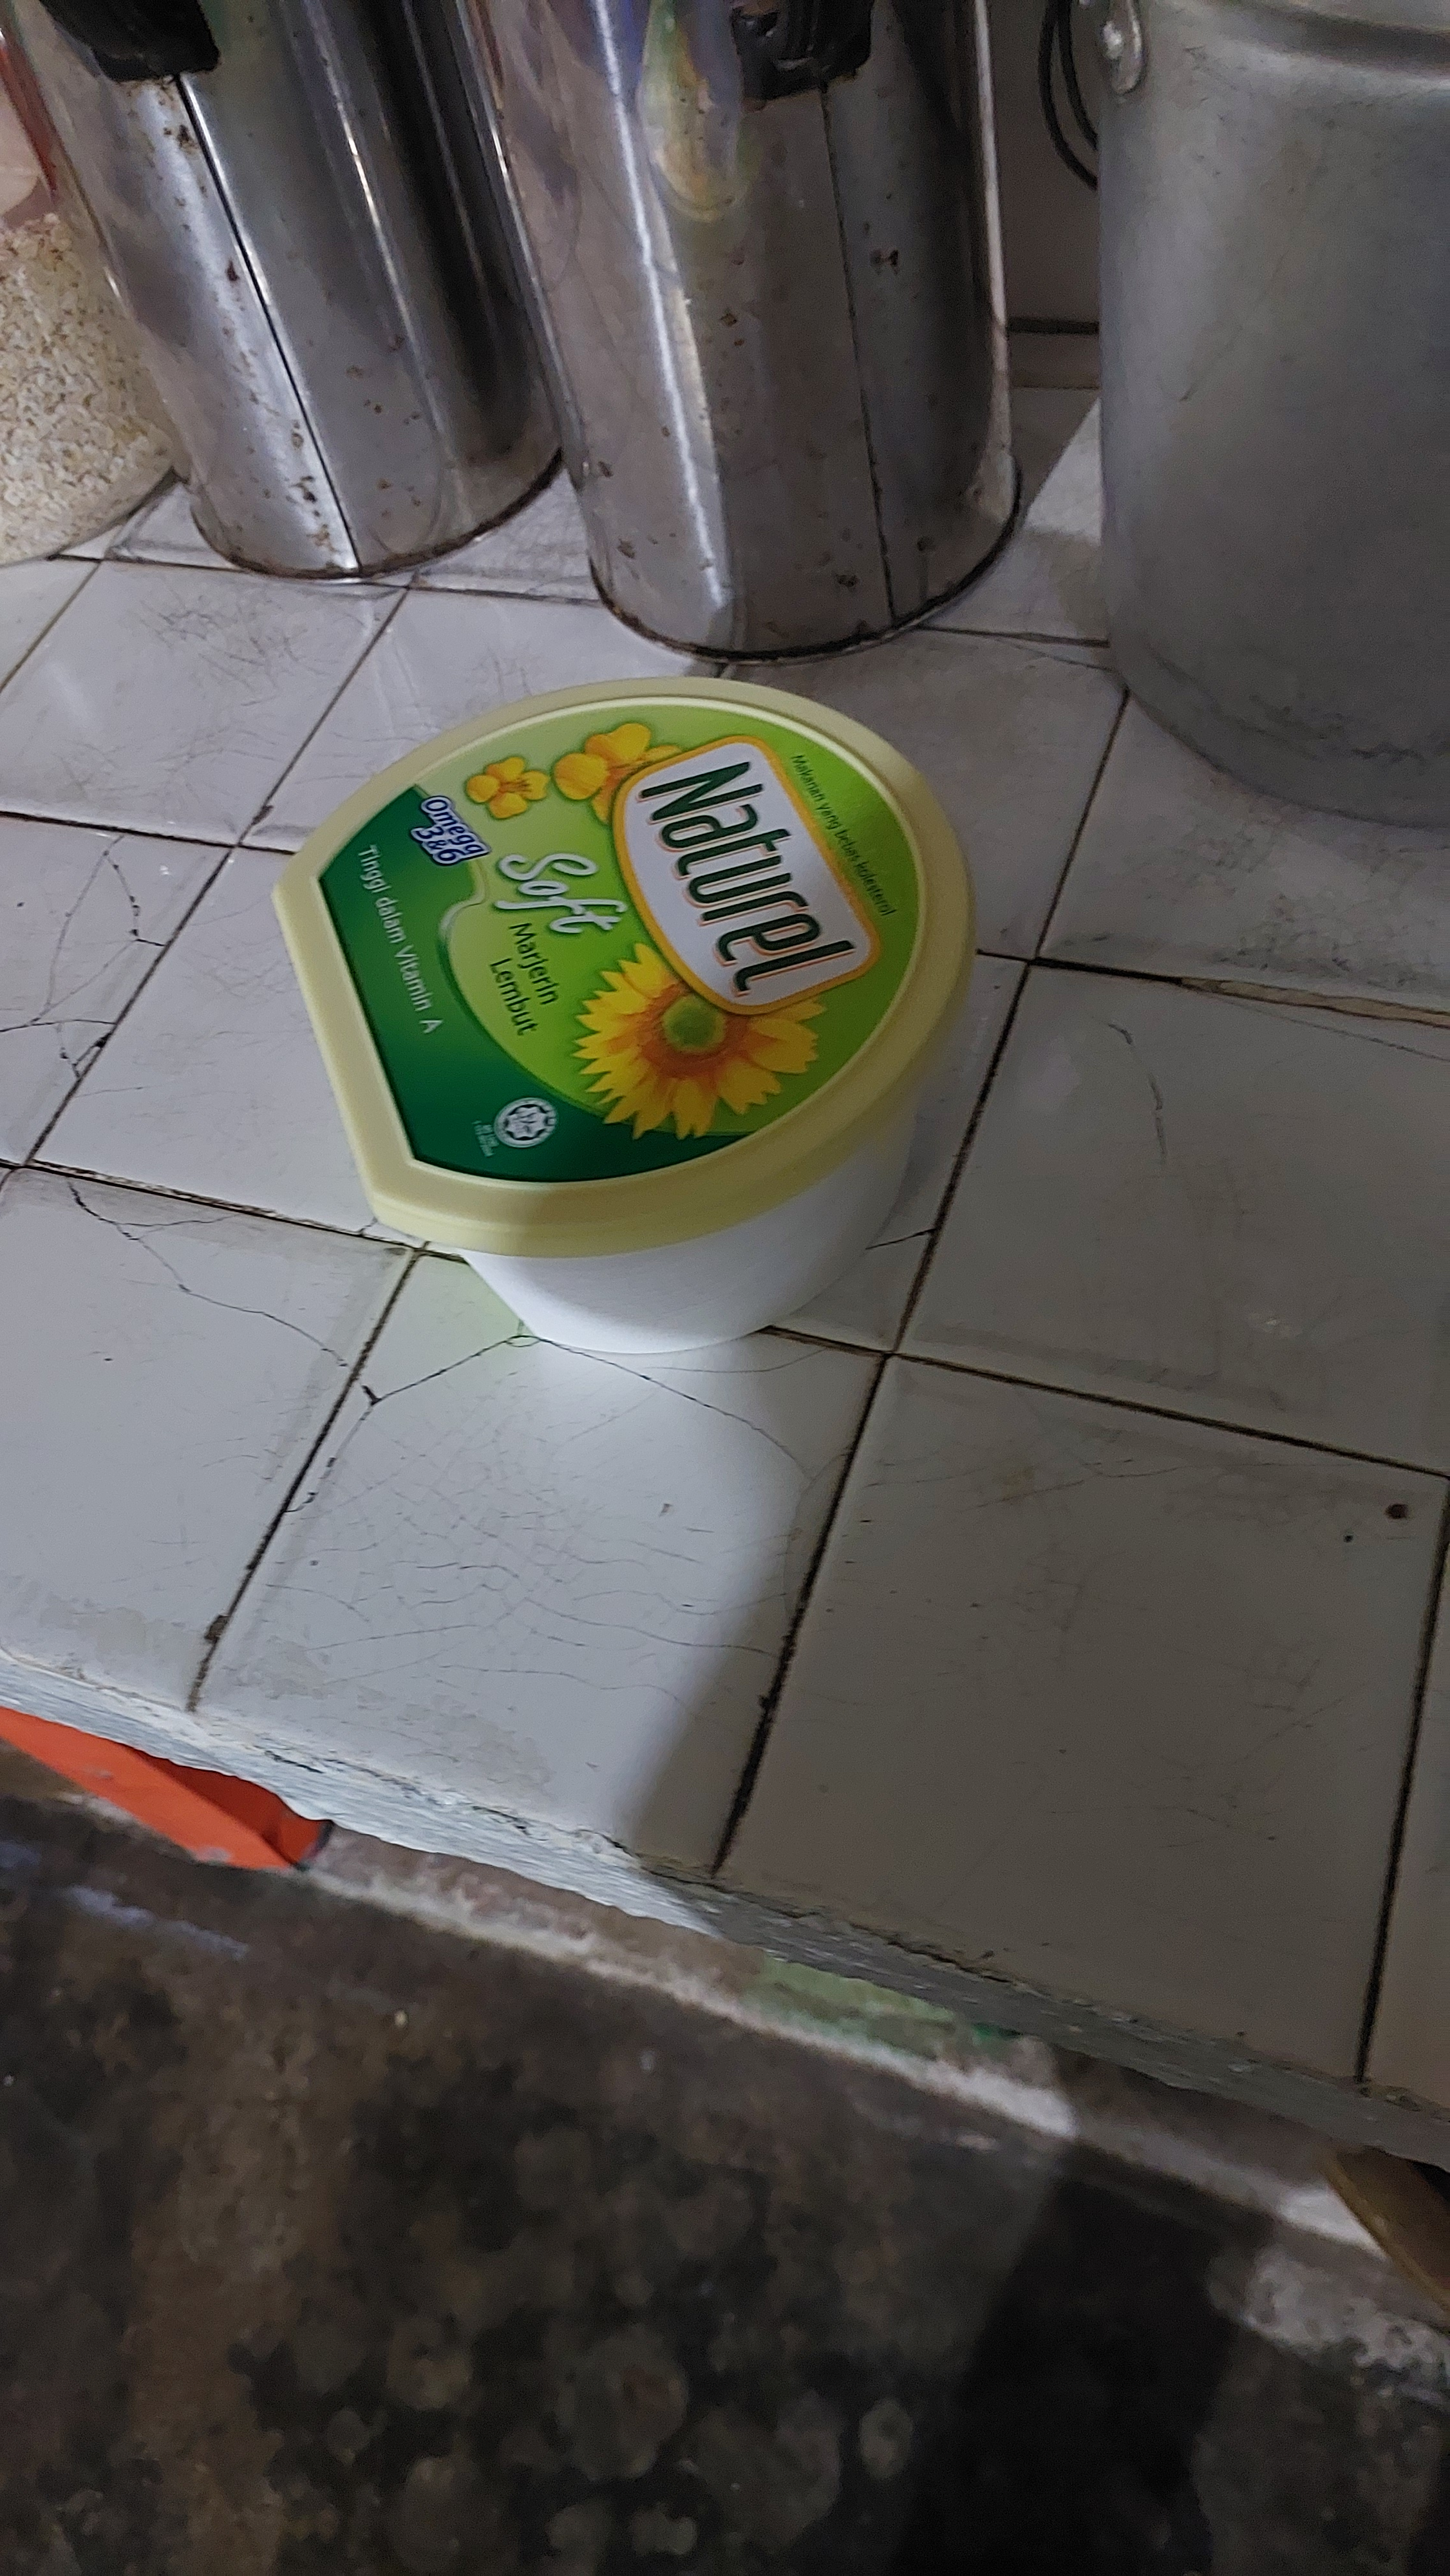butter: (269, 678, 976, 1364)
